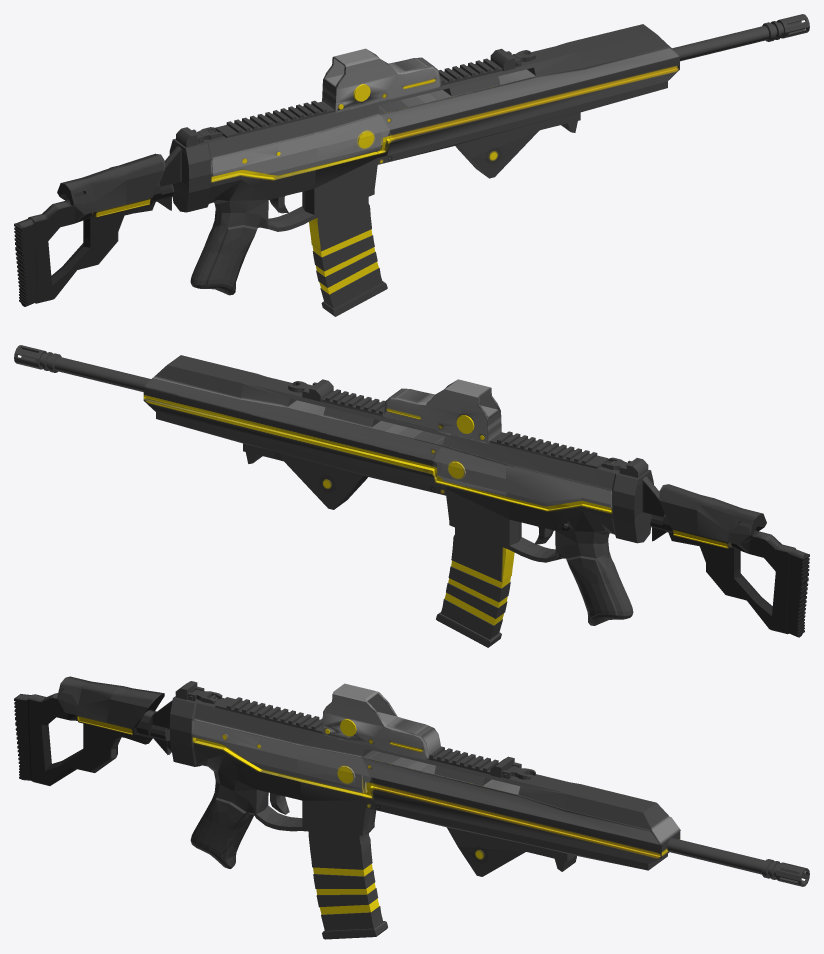
Rendered from Gun_AR(Size Fix).FBX.
3 views of the same model, one above another, from view 1: azimuth 30°, elevation 25°; view 2: azimuth 150°, elevation 25°; view 3: azimuth 330°, elevation 25° (orthographic).
Visible parts, largest first — view 1: AR_Barrel(Fix), AR_Magazine(Fix), AR_Barrel_Effect(Fix), AR_Magazine_Effect(Fix); view 2: AR_Barrel(Fix), AR_Magazine(Fix), AR_Barrel_Effect(Fix), AR_Magazine_Effect(Fix); view 3: AR_Barrel(Fix), AR_Magazine(Fix), AR_Barrel_Effect(Fix), AR_Magazine_Effect(Fix).
Part boxes in pixels (box(x1,y1,x2,y2)): AR_Barrel(Fix): box(14, 14, 809, 306); AR_Magazine(Fix): box(309, 197, 387, 316); AR_Barrel_Effect(Fix): box(97, 66, 677, 216); AR_Magazine_Effect(Fix): box(312, 229, 378, 294); AR_Barrel(Fix): box(14, 345, 809, 637); AR_Magazine(Fix): box(436, 527, 514, 647); AR_Barrel_Effect(Fix): box(146, 397, 726, 546); AR_Magazine_Effect(Fix): box(444, 560, 510, 625); AR_Barrel(Fix): box(14, 676, 809, 886); AR_Magazine(Fix): box(308, 831, 387, 939); AR_Barrel_Effect(Fix): box(79, 717, 660, 860); AR_Magazine_Effect(Fix): box(313, 864, 379, 914).
Size of the model in its own units: 38.68 by 11.75 by 1.83.
